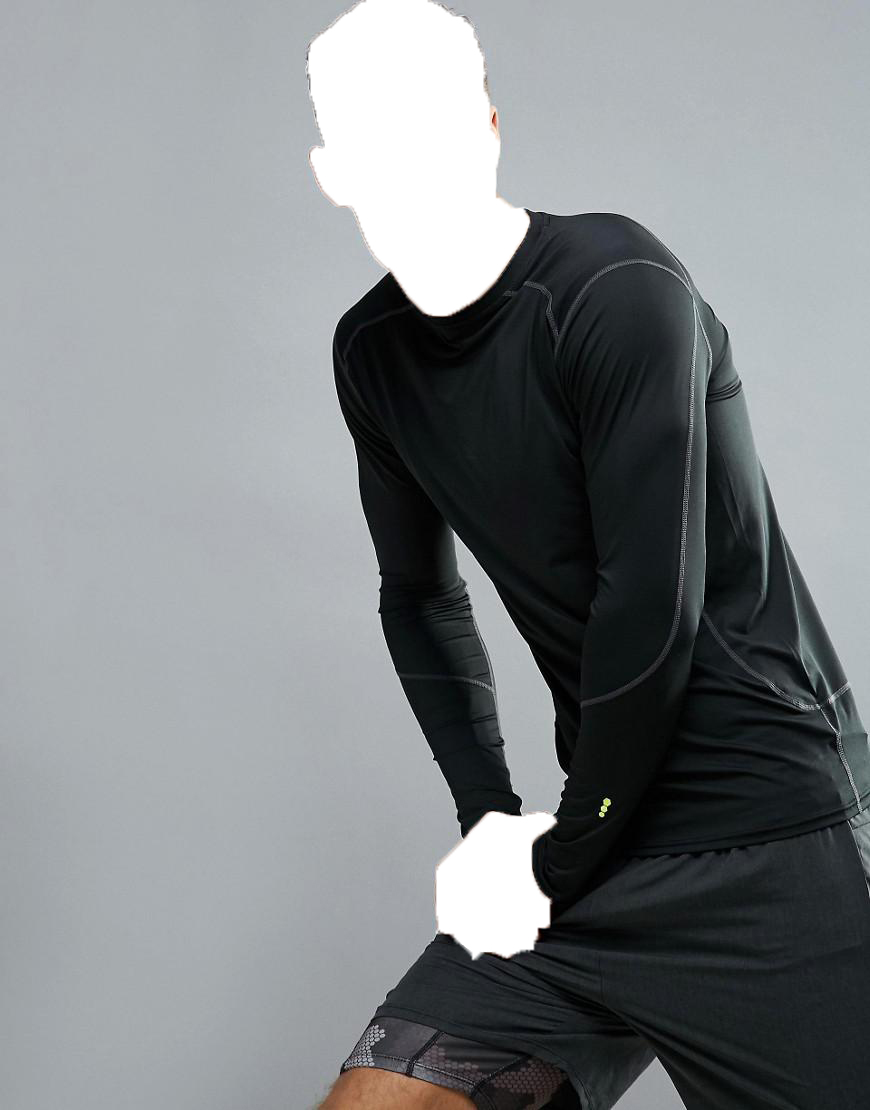teeshirt: (291, 212, 870, 876)
